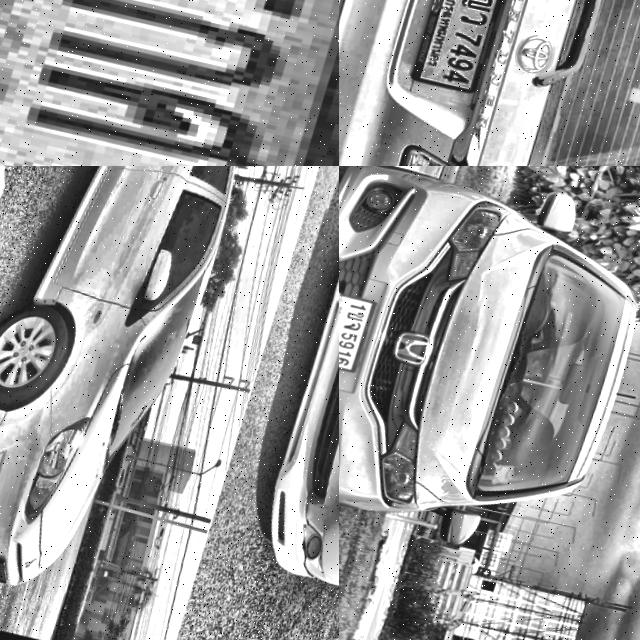license-plate: (0, 0, 339, 166), (412, 0, 514, 93), (339, 288, 387, 372), (0, 549, 24, 591)
